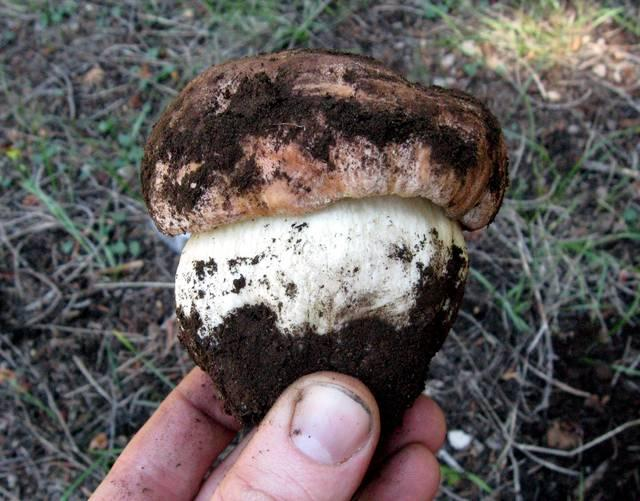edible_mushroom: (138, 46, 510, 453)
